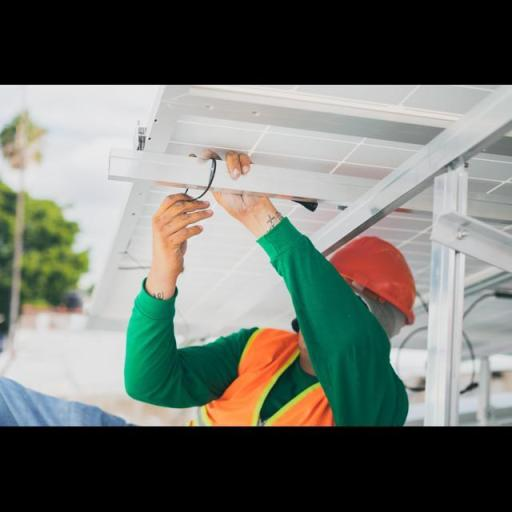helmet: (331, 226, 422, 324)
vest: (186, 325, 364, 432)
